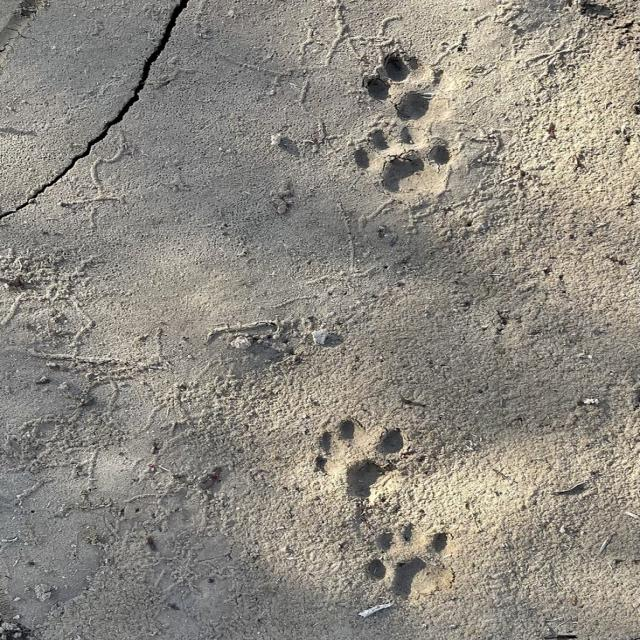felid: (310, 416, 412, 499), (356, 124, 454, 195), (369, 525, 453, 604), (362, 48, 449, 114)
